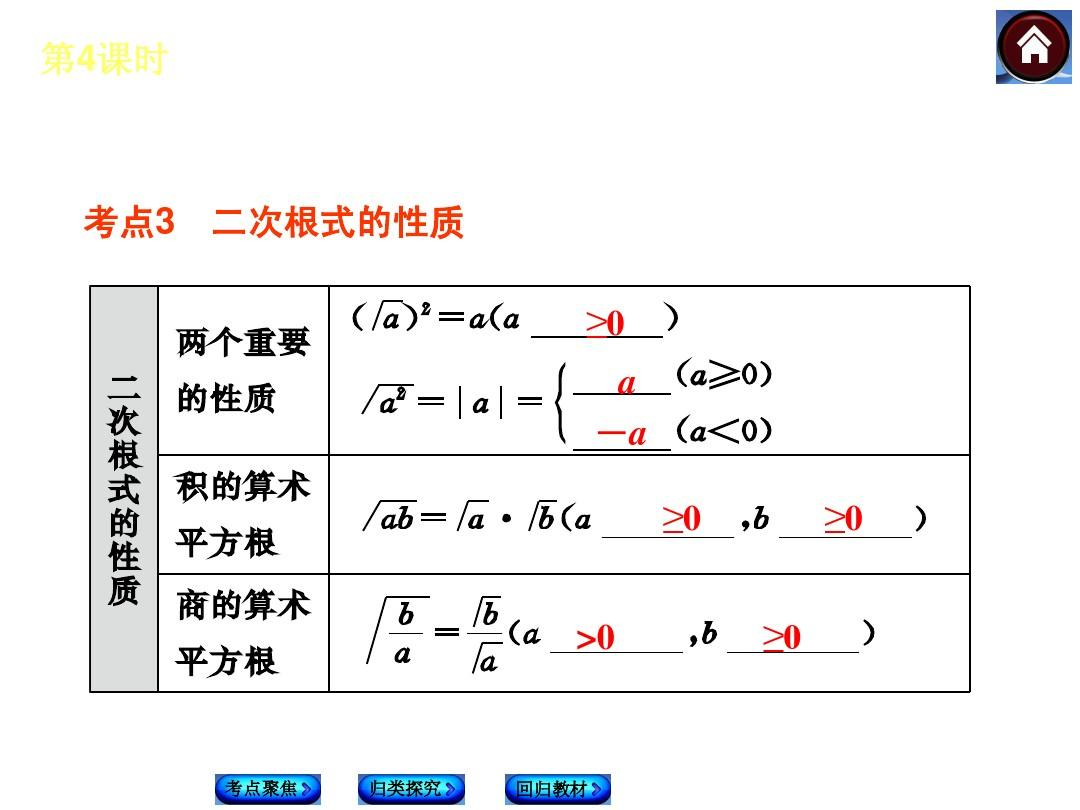division: (464, 629, 513, 642), (389, 625, 422, 639)
sqrt: (360, 594, 438, 673), (358, 377, 413, 419), (364, 495, 415, 531), (456, 494, 493, 536), (523, 496, 559, 539), (369, 296, 406, 336), (473, 591, 506, 629), (473, 639, 502, 675)
square: (390, 384, 408, 402), (417, 299, 432, 318)
